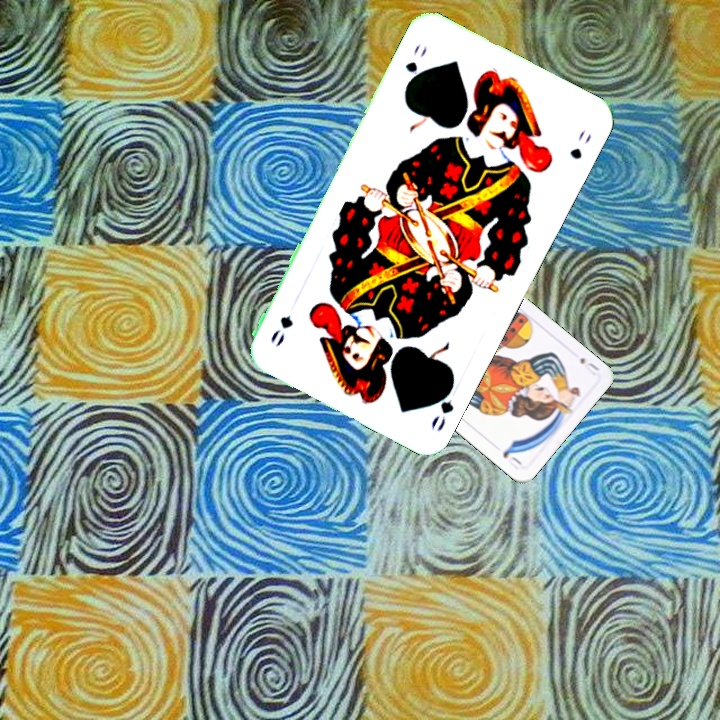GO: (427, 376, 457, 434), (401, 41, 430, 91)
SU: (576, 353, 602, 377)
